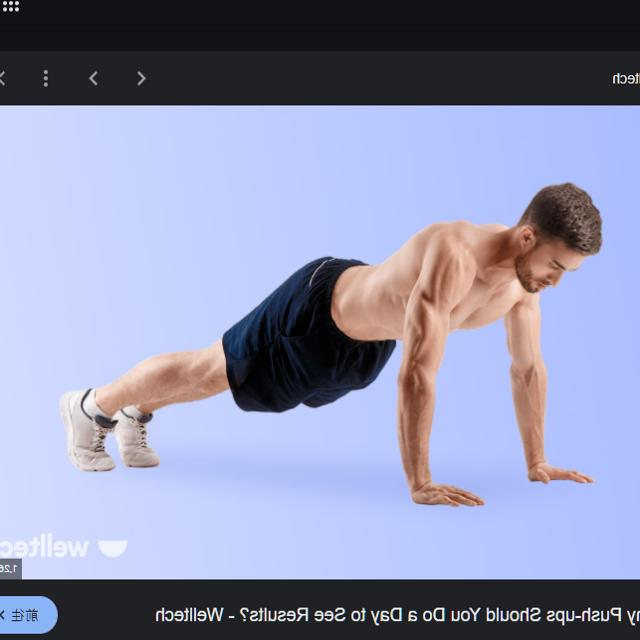Plank_Pose: (54, 177, 614, 516)
